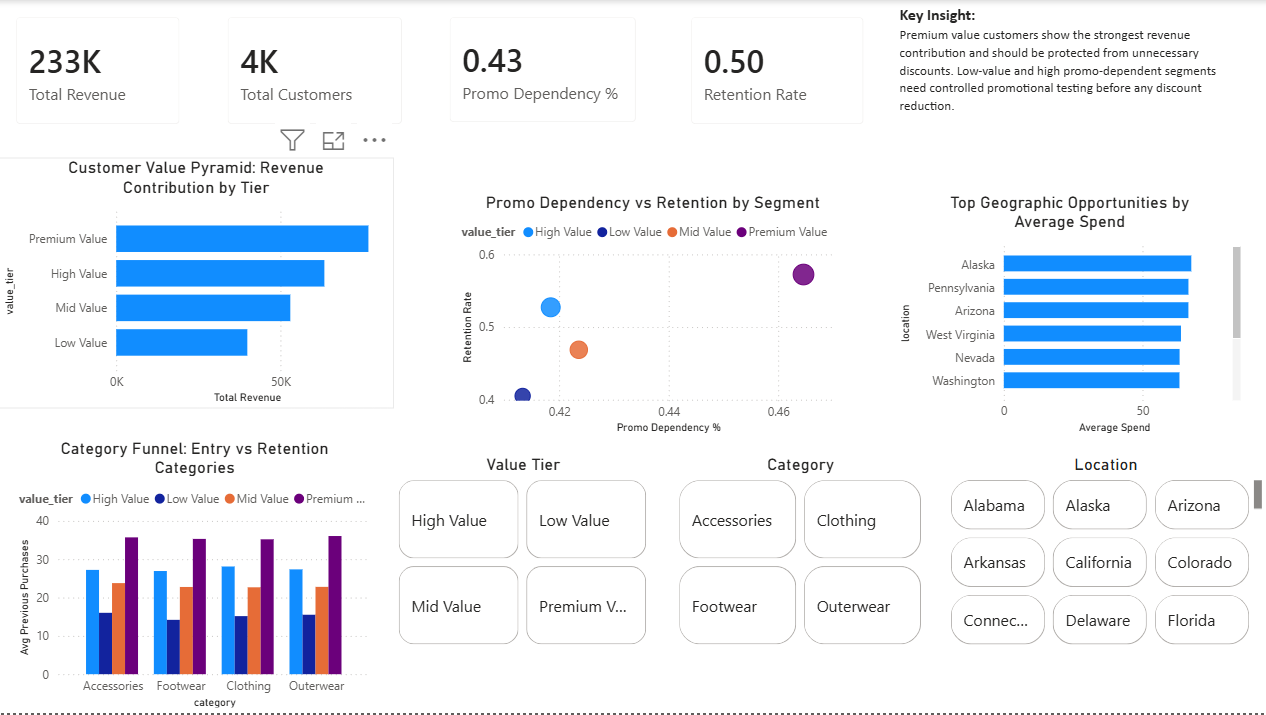

This screenshot's page, from the dashboard's own definition file:
{"tool":"powerbi","page":{"name":"Page 1","canvas":[1280,720],"ordinal":0},"visuals":[{"type":"cardVisual","fields":{"Data":["customer_features.Total Revenue"]},"box":[0,0,200,141.7],"z":0},{"type":"cardVisual","fields":{"Data":["customer_features.Total Customers"]},"box":[213.5,0,210.5,142.3],"z":1000},{"type":"cardVisual","fields":{"Data":["customer_features.Promo Dependency %"]},"box":[437.6,0,222.6,140.8],"z":2000},{"type":"cardVisual","fields":{"Data":["customer_features.Retention Rate"]},"box":[681.4,0,209,142.3],"z":3000},{"type":"barChart","title":"Customer Value Pyramid: Revenue Contribution by Tier","fields":{"Category":["customer_features.value_tier"],"Y":["customer_features.Total Revenue"]},"box":[0,159,398.2,252.9],"z":4000},{"type":"advancedSlicerVisual","title":"Value Tier","fields":{"Values":["customer_features.value_tier"]},"box":[398.2,458.8,262,196.8],"z":5000},{"type":"clusteredColumnChart","title":"Category Funnel: Entry vs Retention Categories","fields":{"Category":["customer_features.category"],"Y":["customer_features.Avg Previous Purchases"],"Series":["customer_features.value_tier"]},"box":[15.1,442.1,364.9,277.1],"z":6000},{"type":"advancedSlicerVisual","title":"Category","fields":{"Values":["customer_features.category"]},"box":[681.4,458.8,255.9,196.8],"z":7000},{"type":"scatterChart","title":"Promo Dependency vs Retention by Segment","fields":{"X":["customer_features.Promo Dependency %"],"Y":["customer_features.Retention Rate"],"Series":["customer_features.value_tier"],"Size":["customer_features.Total Revenue"]},"box":[461.8,193.8,396.7,248.3],"z":8000},{"type":"advancedSlicerVisual","title":"Location","fields":{"Values":["customer_features.location"]},"box":[955.5,458.8,324,196.8],"z":9000},{"type":"textbox","box":[904,0,354.3,128.7],"z":10000},{"type":"clusteredBarChart","title":"Top Geographic Opportunities by Average Spend","fields":{"Category":["customer_features.location"],"Y":["customer_features.Average Spend"]},"box":[904,194,354,248],"z":11000}]}

Visuals, with their boxes in screenshot pixels (x1, y1, x2, y2), scaled from the page's 1280x720 canvas onto the 1266x715 screenshot:
cardVisual - customer_features.Total Revenue: [0, 0, 198, 141]
cardVisual - customer_features.Total Customers: [211, 0, 419, 141]
cardVisual - customer_features.Promo Dependency %: [433, 0, 653, 140]
cardVisual - customer_features.Retention Rate: [674, 0, 881, 141]
"Customer Value Pyramid: Revenue Contribution by Tier" barChart: [0, 158, 394, 409]
"Value Tier" advancedSlicerVisual: [394, 456, 653, 651]
"Category Funnel: Entry vs Retention Categories" clusteredColumnChart: [15, 439, 376, 714]
"Category" advancedSlicerVisual: [674, 456, 927, 651]
"Promo Dependency vs Retention by Segment" scatterChart: [457, 192, 849, 439]
"Location" advancedSlicerVisual: [945, 456, 1265, 651]
textbox: [894, 0, 1245, 128]
"Top Geographic Opportunities by Average Spend" clusteredBarChart: [894, 193, 1244, 439]
